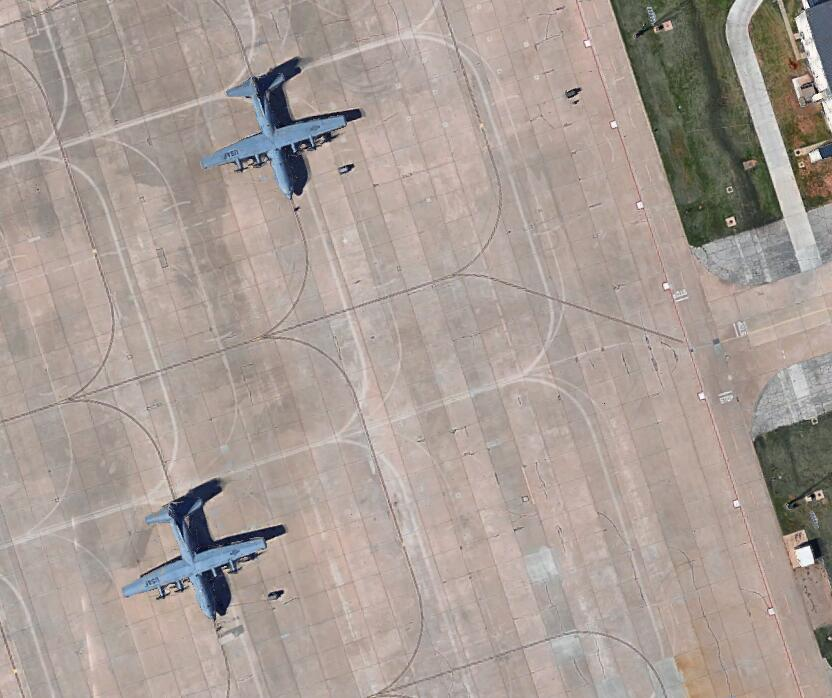A2: (187, 64, 351, 203), (115, 486, 271, 621)
